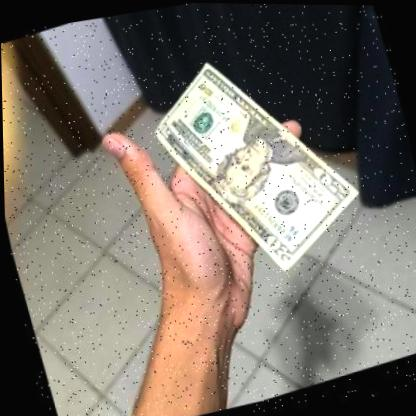twenty-front: (132, 25, 377, 305)
